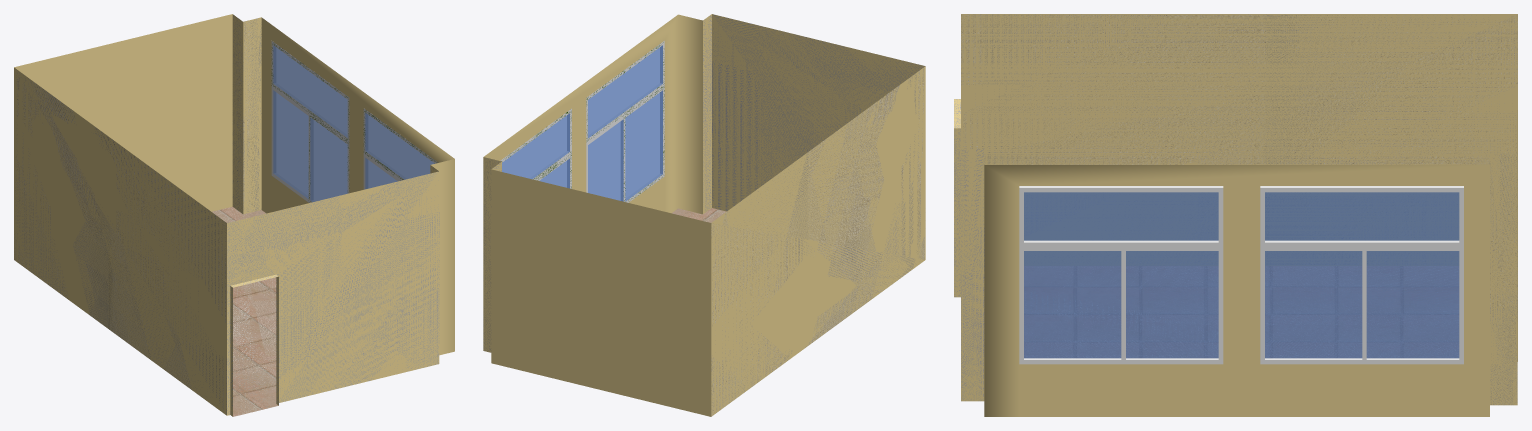
File: DES023.obj
3 renders of one model, left to right at view 1: azimuth 30°, elevation 25°; view 2: azimuth 150°, elevation 25°; view 3: azimuth 270°, elevation 25°, orthographic. The views are drawn at different scales.
Parts seen in each view (by area): view 1: Mesh13 DES023 Model, Mesh1 ventana1_1 DES023 Model, Mesh7 ventana1_2 DES023 Model; view 2: Mesh13 DES023 Model, Mesh7 ventana1_2 DES023 Model, Mesh1 ventana1_1 DES023 Model; view 3: Mesh13 DES023 Model, Mesh7 ventana1_2 DES023 Model, Mesh1 ventana1_1 DES023 Model.
Boxes of the visible parts, x1,y1,x2,y2 form: Mesh13 DES023 Model: [14, 14, 454, 416]; Mesh1 ventana1_1 DES023 Model: [271, 41, 349, 202]; Mesh7 ventana1_2 DES023 Model: [363, 108, 437, 189]; Mesh13 DES023 Model: [483, 14, 925, 416]; Mesh7 ventana1_2 DES023 Model: [586, 41, 664, 202]; Mesh1 ventana1_1 DES023 Model: [500, 108, 571, 188]; Mesh13 DES023 Model: [954, 14, 1517, 416]; Mesh7 ventana1_2 DES023 Model: [1019, 186, 1223, 364]; Mesh1 ventana1_1 DES023 Model: [1260, 186, 1463, 364].
Size of the model in its own units: 3.91 by 3 by 6.09.
Materials: 7 (2 with a texture image).
